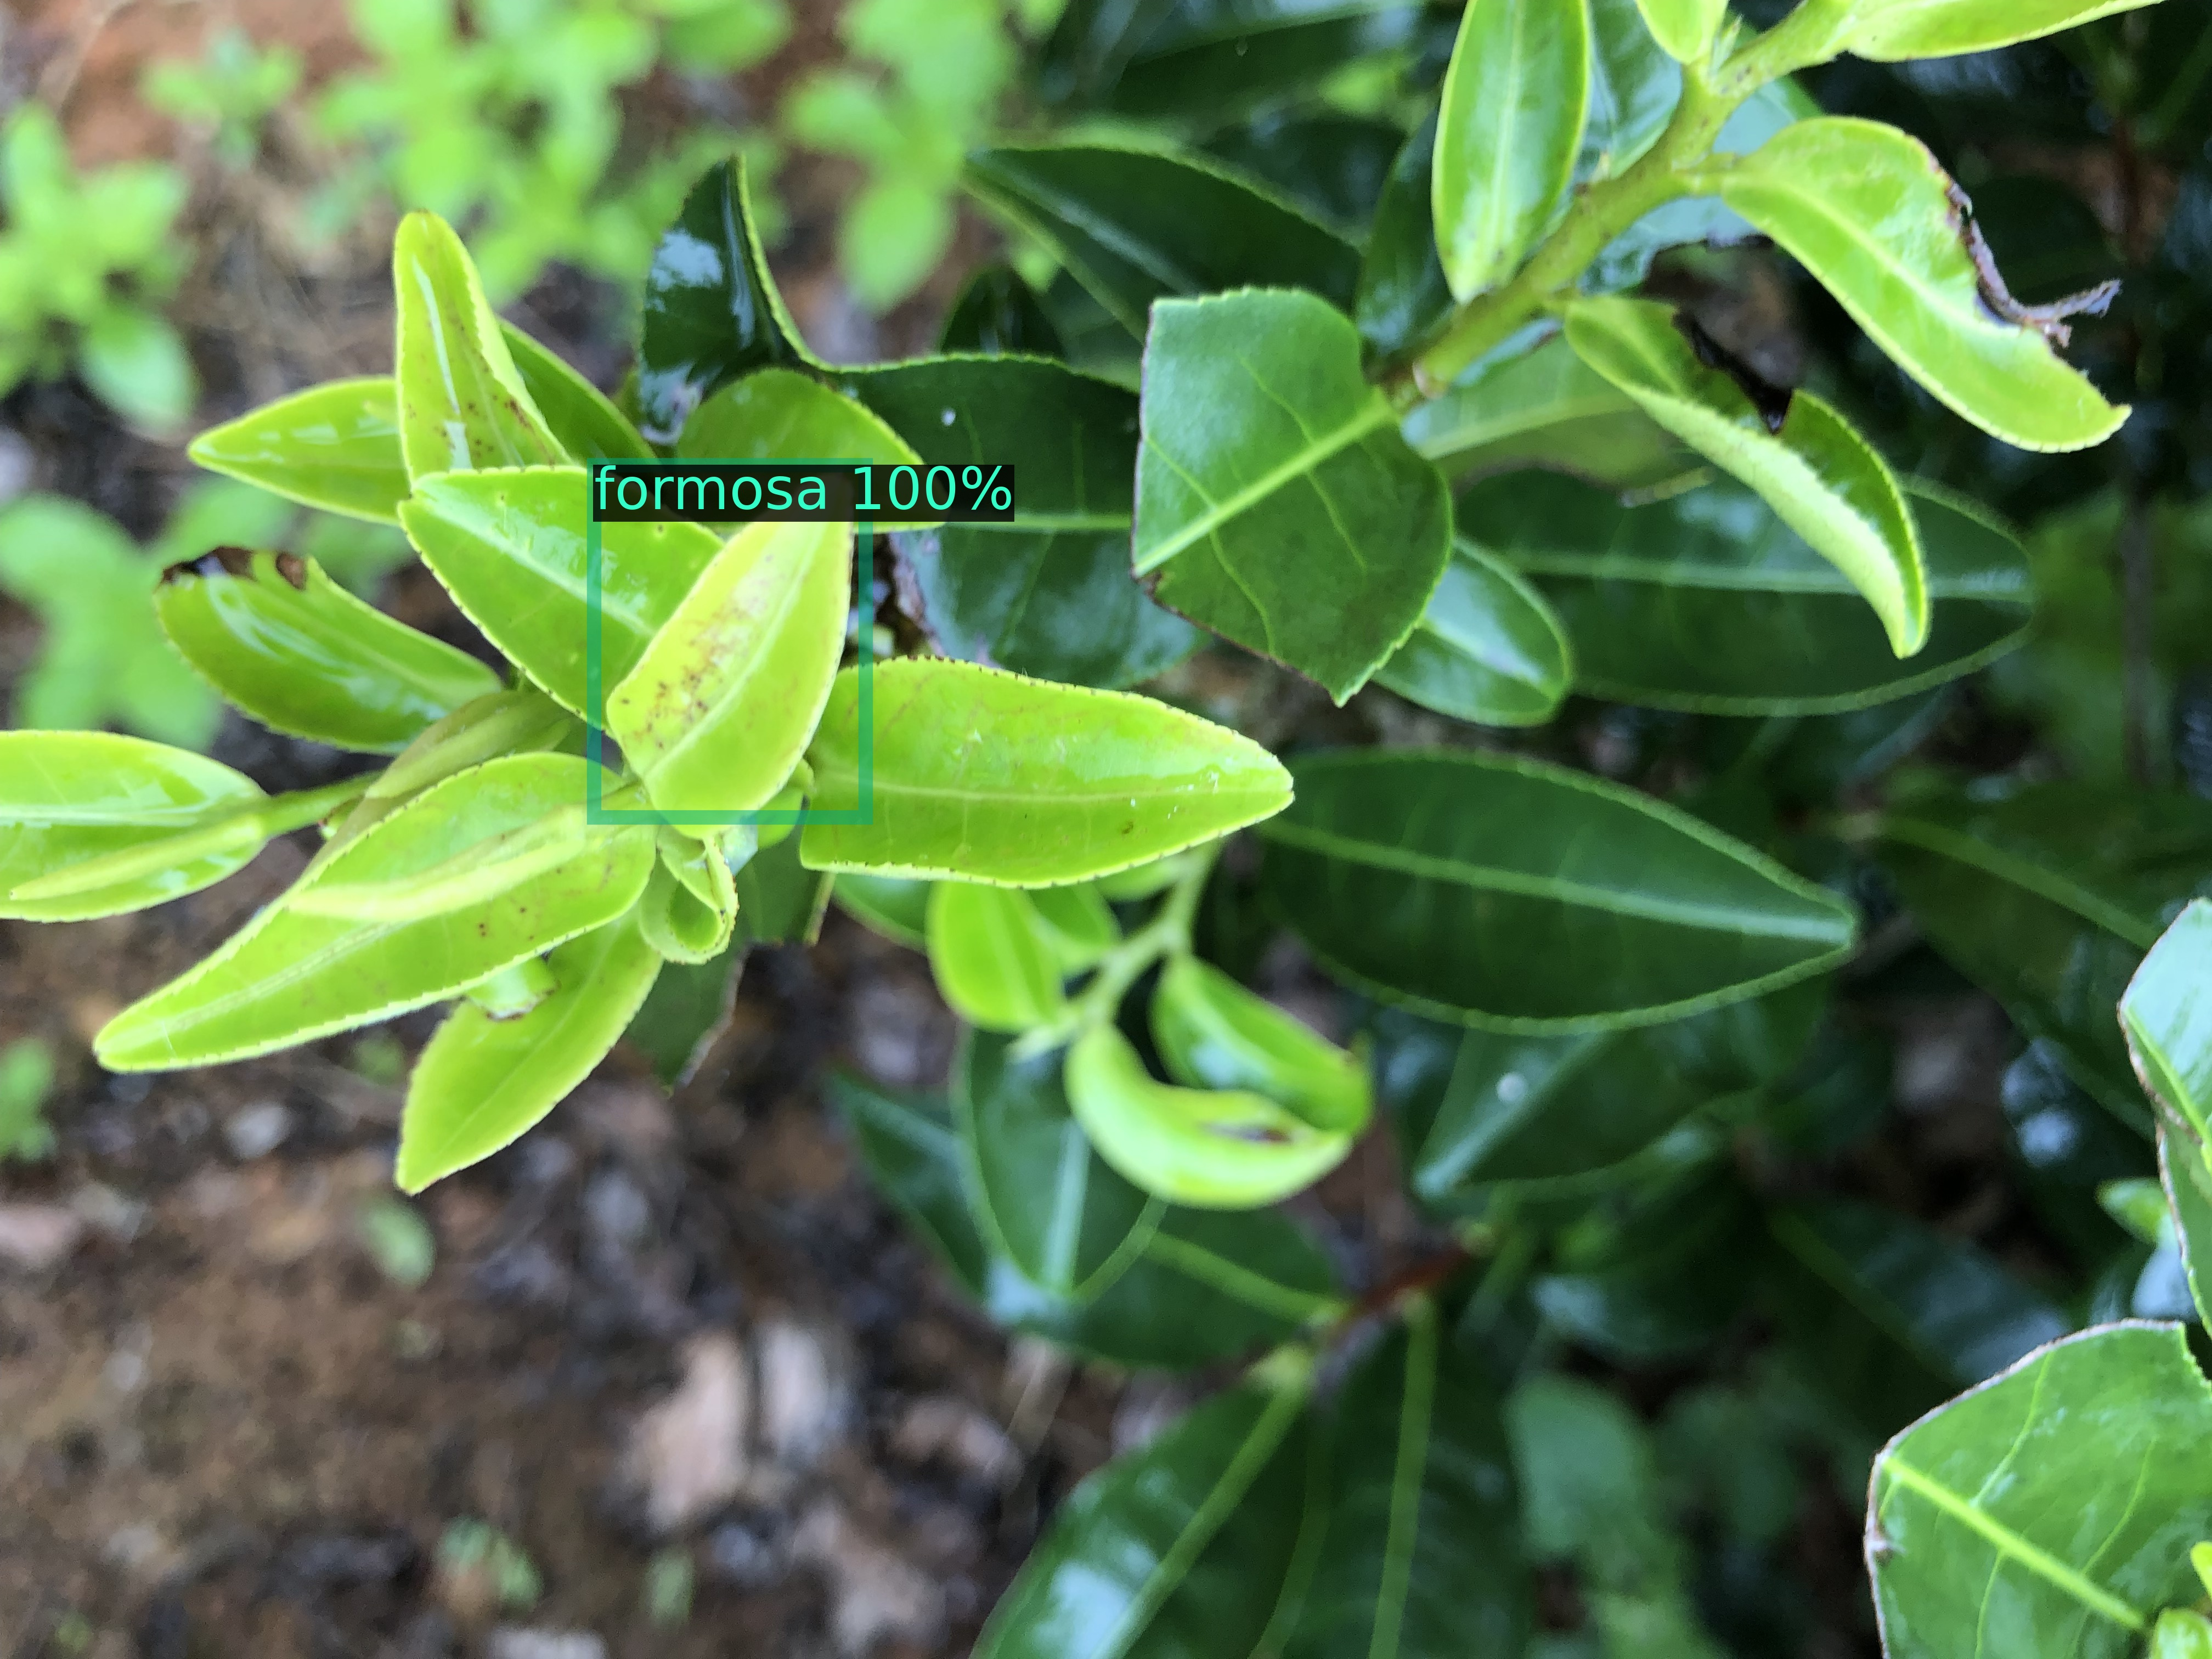formosa: (594, 465, 866, 817)
